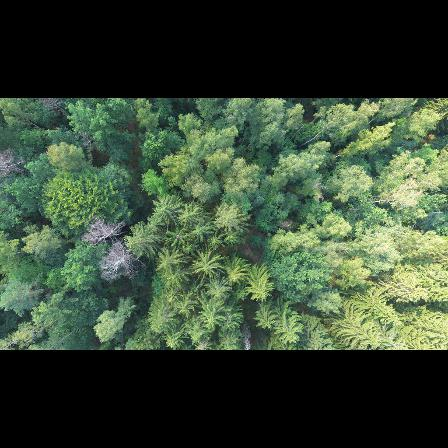Dead: (81, 214, 126, 241), (102, 244, 140, 272), (238, 319, 256, 350)
